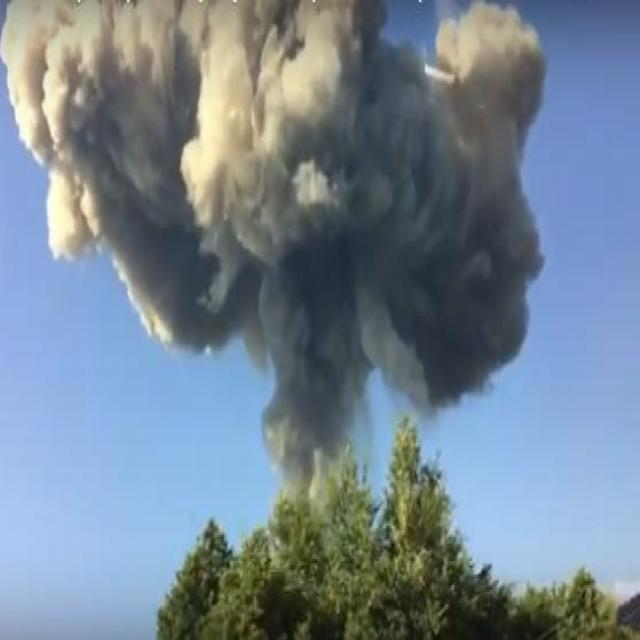Smoke: (0, 0, 587, 468)
